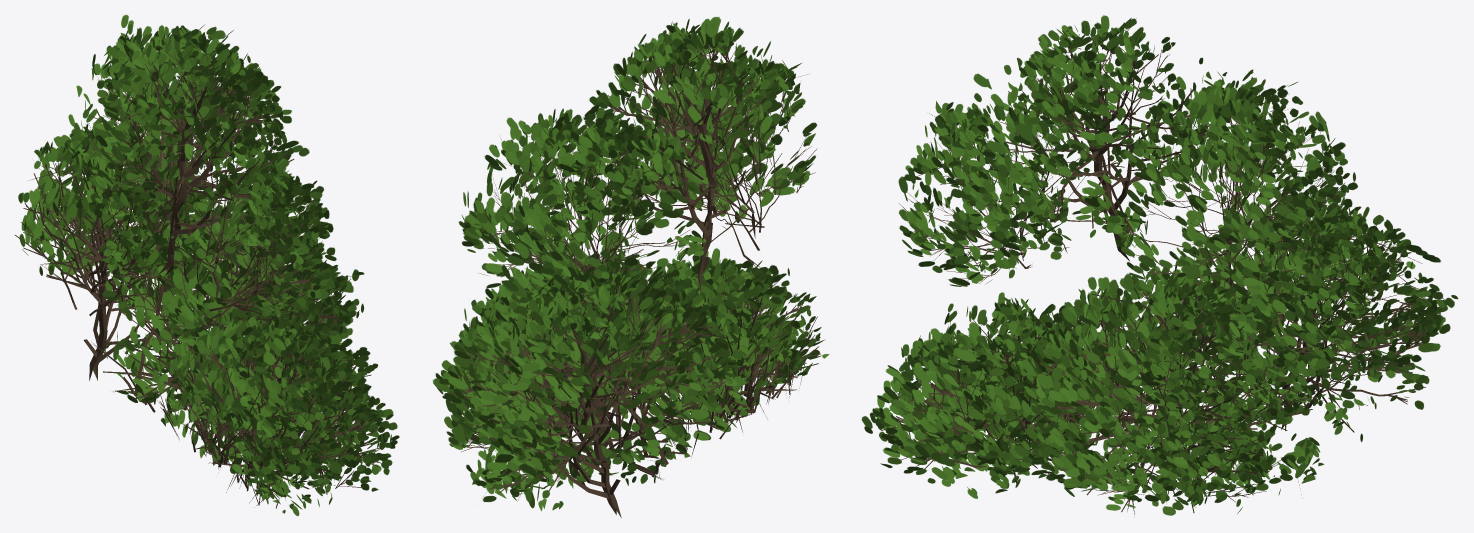
The picture shows the model from 3 angles, left to right: view 1: azimuth 30°, elevation 25°; view 2: azimuth 150°, elevation 25°; view 3: azimuth 270°, elevation 25°; orthographic projection. The views are drawn at different scales.
Visible parts, largest first — view 1: oak 01.001_trunk_Mat.001_0.494; view 2: oak 01.001_trunk_Mat.001_0.494; view 3: oak 01.001_trunk_Mat.001_0.494.
Boxes of the visible parts, x1,y1,x2,y2 form: oak 01.001_trunk_Mat.001_0.494: [15, 15, 399, 516]; oak 01.001_trunk_Mat.001_0.494: [432, 17, 829, 517]; oak 01.001_trunk_Mat.001_0.494: [861, 15, 1458, 515].
Size of the model in its own units: 2.8 by 4.79 by 5.99.
2 materials, 1 textured.
